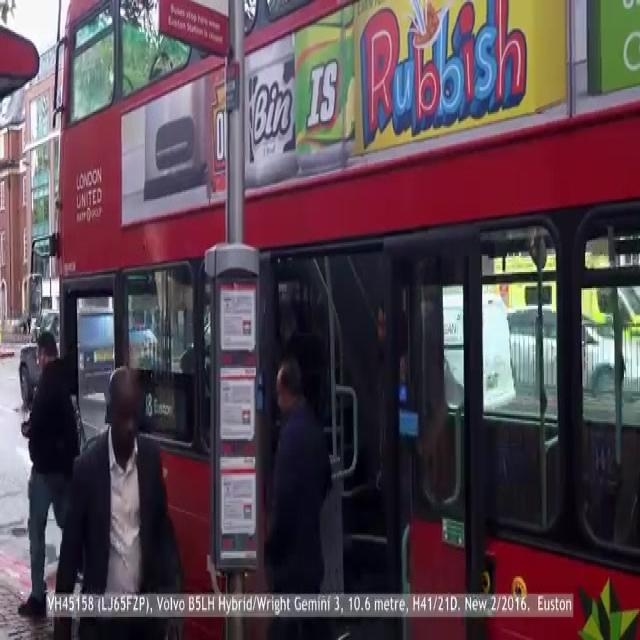Bus: (65, 18, 640, 622)
